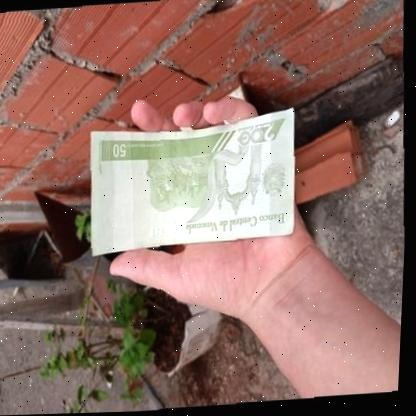fifty-back-vef: (86, 108, 301, 257)
